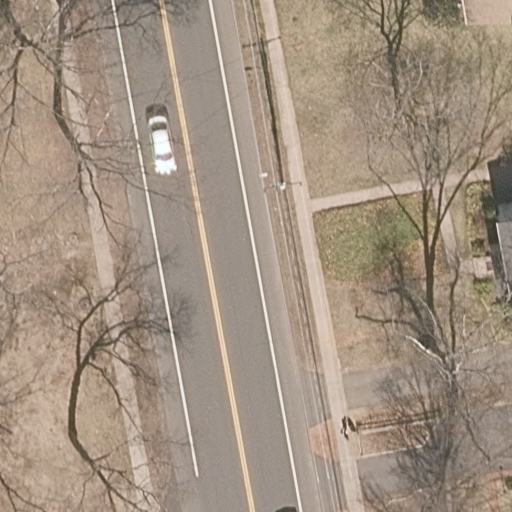DT: (258, 161, 303, 194)
